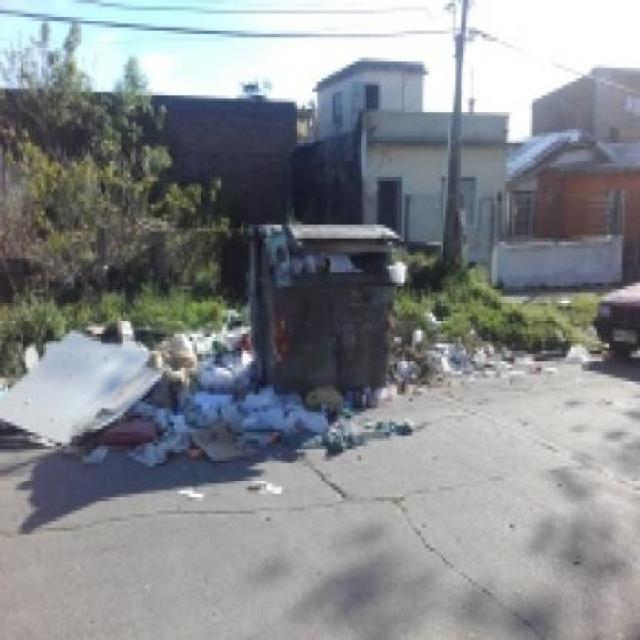garbage: (15, 314, 240, 453), (232, 382, 358, 444), (385, 314, 505, 365)
